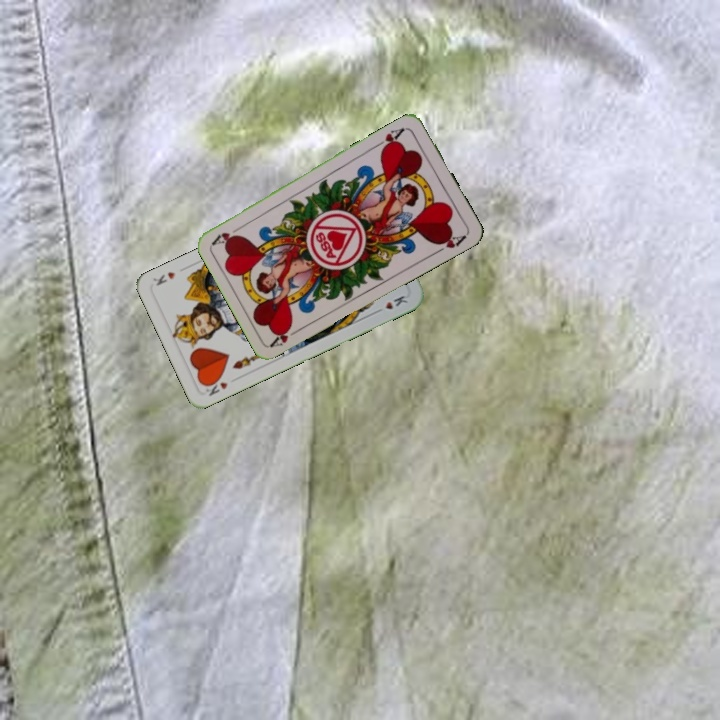HA: (372, 123, 409, 154), (267, 321, 305, 350)
HK: (201, 374, 230, 399)
